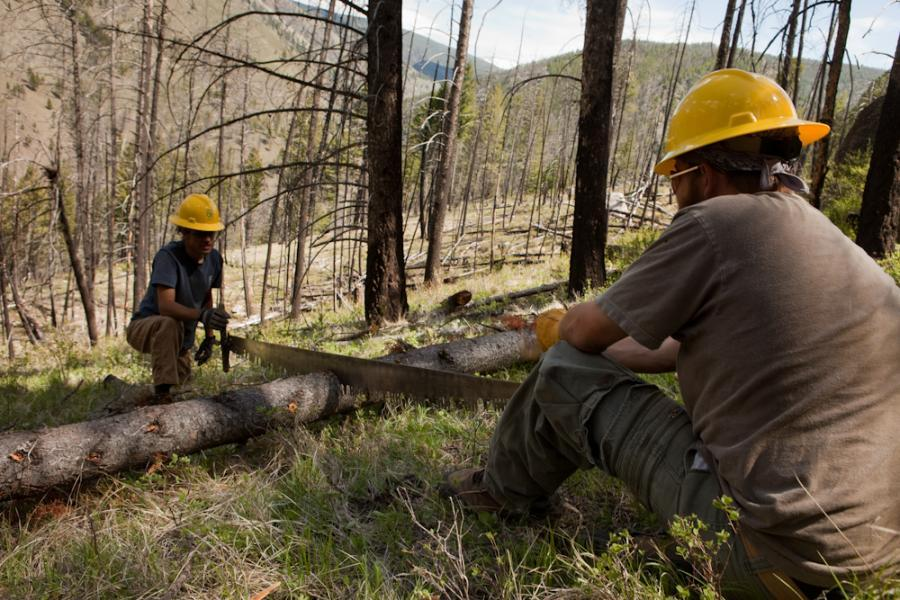person: (445, 66, 900, 600)
